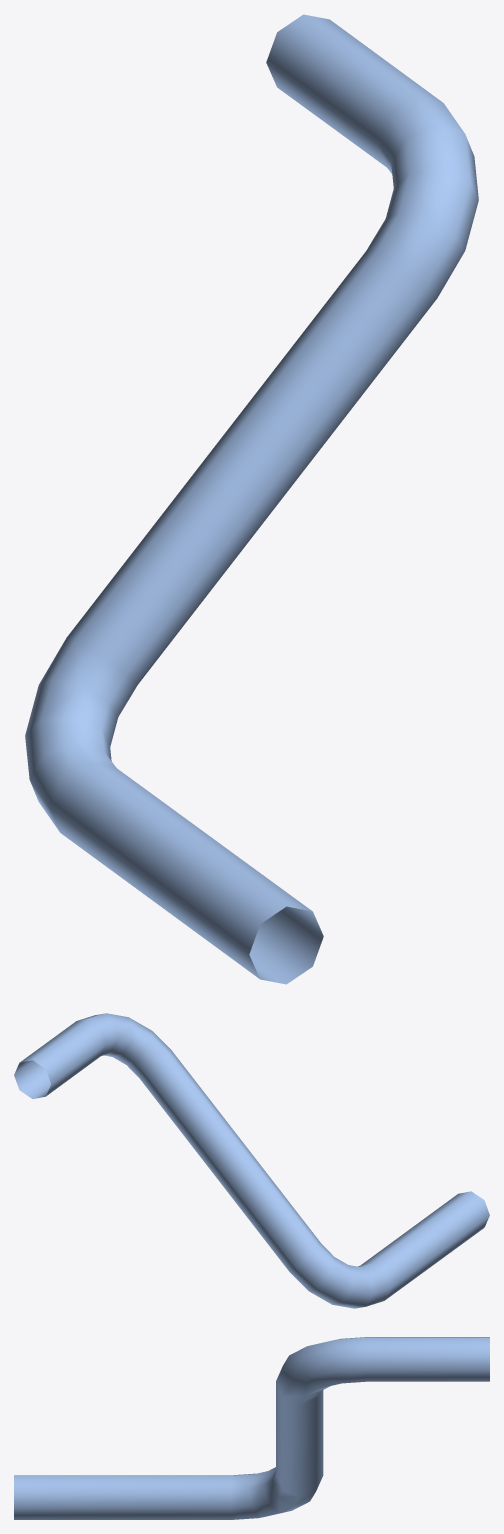
Rendered from PipeSmall_BentSpecial_02.fbx.
3 views of the same model, one above another, from view 1: azimuth 30°, elevation 25°; view 2: azimuth 150°, elevation 25°; view 3: azimuth 270°, elevation 25° (orthographic). The views are drawn at different scales.
Visible parts, largest first — view 1: PipeSmall_BentSpecial_02.001; view 2: PipeSmall_BentSpecial_02.001; view 3: PipeSmall_BentSpecial_02.001.
Boxes of the visible parts, x1=… form: PipeSmall_BentSpecial_02.001: x1=25, y1=14, x2=478, y2=984; PipeSmall_BentSpecial_02.001: x1=14, y1=1013, x2=489, y2=1308; PipeSmall_BentSpecial_02.001: x1=14, y1=1337, x2=489, y2=1519.
Bounding box in the file's own units: 0.7 × 0.7 × 1.
